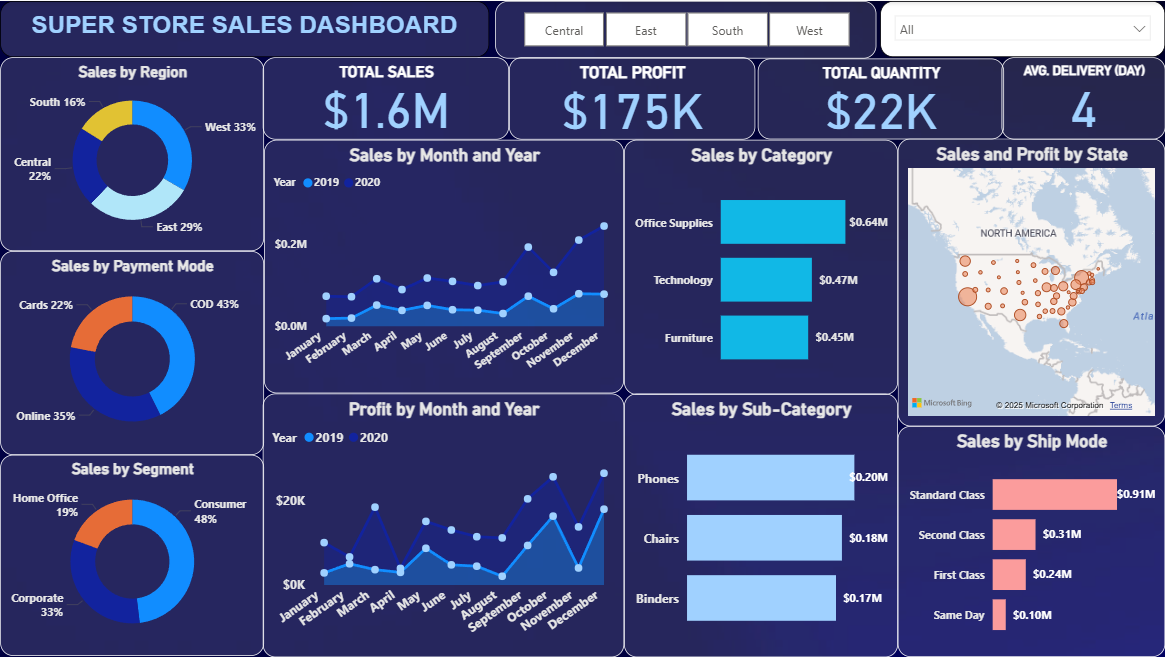

The dashboard page shown, as its layout file describes it:
{"tool":"powerbi","page":{"name":"DASHBOARD","canvas":[1280,720],"ordinal":0},"visuals":[{"type":"clusteredBarChart","title":"Sales by Category","fields":{"Category":["SuperStore_Sales_Dataset for power bi.Category"],"Y":["Sum(SuperStore_Sales_Dataset for power bi.Sales)"]},"box":[686.1,152.3,300.5,279.9],"z":0},{"type":"card","title":"TOTAL SALES","fields":{"Values":["Sum(SuperStore_Sales_Dataset for power bi.Sales)"]},"box":[289.5,61.7,270.3,90.6],"z":1000},{"type":"clusteredBarChart","title":"Sales by Sub-Category","fields":{"Y":["Sum(SuperStore_Sales_Dataset for power bi.Sales)"],"Category":["SuperStore_Sales_Dataset for power bi.Sub-Category"]},"box":[686.1,430.4,300.5,289.5],"z":2000},{"type":"card","title":"TOTAL QUANTITY","fields":{"Values":["Sum(SuperStore_Sales_Dataset for power bi.Quantity)"]},"box":[832.9,63.1,270.3,89.2],"z":3000},{"type":"clusteredBarChart","title":"Sales by Ship Mode","fields":{"Y":["Sum(SuperStore_Sales_Dataset for power bi.Sales)"],"Category":["SuperStore_Sales_Dataset for power bi.Ship Mode"]},"box":[986.6,466.6,293.7,253.9],"z":4000},{"type":"card","title":"TOTAL PROFIT","fields":{"Values":["Sum(SuperStore_Sales_Dataset for power bi.Profit)"]},"box":[559.9,61.7,270.3,90.6],"z":5000},{"type":"stackedAreaChart","title":"Sales by Month and Year","fields":{"Y":["Sum(SuperStore_Sales_Dataset for power bi.Sales)"],"Series":["SuperStore_Sales_Dataset for power bi.Order Date.Variation.Date Hierarchy.Year"],"Category":["SuperStore_Sales_Dataset for power bi.Order Date.Variation.Date Hierarchy.Month","SuperStore_Sales_Dataset for power bi.Order Date.Variation.Date Hierarchy.Day"]},"box":[290.9,152.3,395.2,278.6],"z":6000},{"type":"card","title":"AVG. DELIVERY (DAY)","fields":{"Values":["SuperStore_Sales_Dataset for power bi.Average_Delivery"]},"box":[1100.5,61.7,179.8,90.6],"z":7000},{"type":"stackedAreaChart","title":"Profit by Month and Year","fields":{"Y":["Sum(SuperStore_Sales_Dataset for power bi.Profit)"],"Series":["SuperStore_Sales_Dataset for power bi.Order Date.Variation.Date Hierarchy.Year"],"Category":["SuperStore_Sales_Dataset for power bi.Order Date.Variation.Date Hierarchy.Month","SuperStore_Sales_Dataset for power bi.Order Date.Variation.Date Hierarchy.Day"]},"box":[289.5,430.9,396.6,289.5],"z":8000},{"type":"map","title":"Sales and Profit by State","fields":{"Size":["Sum(SuperStore_Sales_Dataset for power bi.Sales)"],"Category":["SuperStore_Sales_Dataset for power bi.State"]},"box":[986.3,150.9,293.7,315.6],"z":9000},{"type":"donutChart","title":"Sales by Segment","fields":{"Category":["SuperStore_Sales_Dataset for power bi.Segment"],"Y":["Sum(SuperStore_Sales_Dataset for power bi.Sales)"]},"box":[1.4,498.1,289.5,220.9],"z":10000},{"type":"donutChart","title":"Sales by Payment Mode","fields":{"Category":["SuperStore_Sales_Dataset for power bi.Payment Mode"],"Y":["Sum(SuperStore_Sales_Dataset for power bi.Sales)"]},"box":[1.4,274.4,289.5,223.7],"z":11000},{"type":"slicer","fields":{"Values":["SuperStore_Sales_Dataset for power bi.Region"]},"box":[544.8,0,418.5,63.1],"z":12000},{"type":"textbox","box":[1.4,0,536.5,61.7],"z":13000},{"type":"donutChart","title":"Sales by Region","fields":{"Category":["SuperStore_Sales_Dataset for power bi.Region"],"Y":["Sum(SuperStore_Sales_Dataset for power bi.Sales)"]},"box":[1.4,61.7,289.5,212.7],"z":14000},{"type":"slicer","fields":{"Values":["SuperStore_Sales_Dataset for power bi.Order Date.Variation.Date Hierarchy.Year","SuperStore_Sales_Dataset for power bi.Order Date.Variation.Date Hierarchy.Quarter"]},"box":[967.4,0,312.9,61.7],"z":15000}]}

Visuals, with their boxes in screenshot pixels (x1, y1, x2, y2), scaled from the page's 1280x720 canvas onto the 1165x657 screenshot:
"Sales by Category" clusteredBarChart: pyautogui.locateOnScreen(624, 139, 898, 394)
"TOTAL SALES" card: pyautogui.locateOnScreen(263, 56, 510, 139)
"Sales by Sub-Category" clusteredBarChart: pyautogui.locateOnScreen(624, 393, 898, 656)
"TOTAL QUANTITY" card: pyautogui.locateOnScreen(758, 58, 1004, 139)
"Sales by Ship Mode" clusteredBarChart: pyautogui.locateOnScreen(898, 426, 1164, 656)
"TOTAL PROFIT" card: pyautogui.locateOnScreen(510, 56, 756, 139)
"Sales by Month and Year" stackedAreaChart: pyautogui.locateOnScreen(265, 139, 624, 393)
"AVG. DELIVERY (DAY)" card: pyautogui.locateOnScreen(1002, 56, 1164, 139)
"Profit by Month and Year" stackedAreaChart: pyautogui.locateOnScreen(263, 393, 624, 656)
"Sales and Profit by State" map: pyautogui.locateOnScreen(898, 138, 1164, 426)
"Sales by Segment" donutChart: pyautogui.locateOnScreen(1, 455, 265, 656)
"Sales by Payment Mode" donutChart: pyautogui.locateOnScreen(1, 250, 265, 455)
slicer - SuperStore_Sales_Dataset for power bi.Region: pyautogui.locateOnScreen(496, 0, 877, 58)
textbox: pyautogui.locateOnScreen(1, 0, 490, 56)
"Sales by Region" donutChart: pyautogui.locateOnScreen(1, 56, 265, 250)
slicer - SuperStore_Sales_Dataset for power bi.Order Date.Variation.Date Hierarchy.Year x SuperStore_Sales_Dataset for power bi.Order Date.Variation.Date Hierarchy.Quarter: pyautogui.locateOnScreen(880, 0, 1164, 56)
